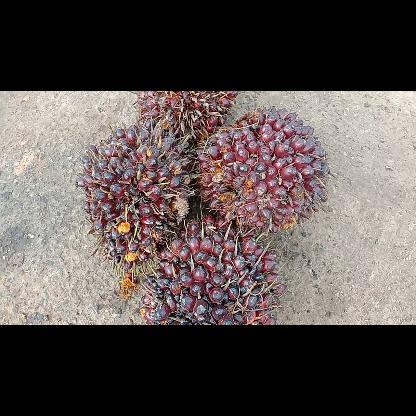Kurang masak: (72, 118, 200, 278), (141, 210, 289, 324), (130, 90, 244, 146)
TBS masak: (190, 104, 334, 235)
